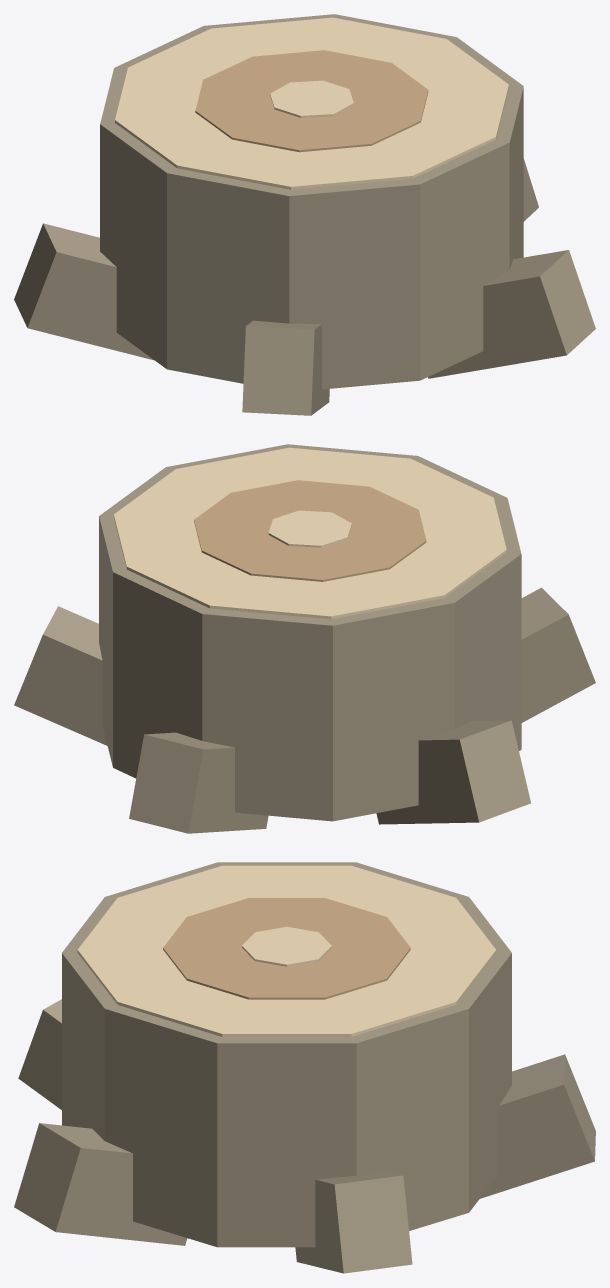
The model's file is Stump_Willow.fbx.
The picture shows the model from 3 angles, top to bottom: view 1: azimuth 30°, elevation 25°; view 2: azimuth 150°, elevation 25°; view 3: azimuth 270°, elevation 25°; orthographic projection. The views are drawn at different scales.
Parts seen in each view (by area): view 1: Stump_Willow_Mesh; view 2: Stump_Willow_Mesh; view 3: Stump_Willow_Mesh.
Boxes of the visible parts, x1,y1,x2,y2 form: Stump_Willow_Mesh: (14, 14, 595, 415); Stump_Willow_Mesh: (14, 444, 595, 833); Stump_Willow_Mesh: (14, 862, 595, 1273).
Bounding box in the file's own units: 2.71 × 1.23 × 2.59.
